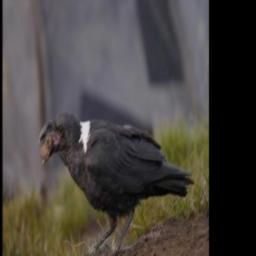Crow: (38, 106, 197, 256)
